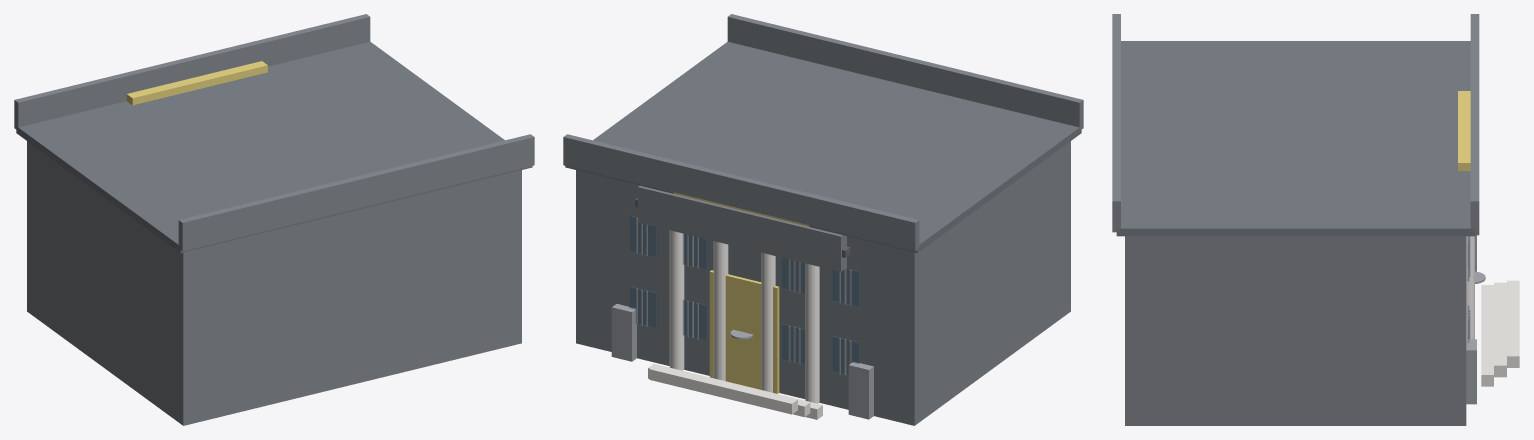
The model's file is bank.fbx.
3 renders of one model, left to right at view 1: azimuth 30°, elevation 25°; view 2: azimuth 150°, elevation 25°; view 3: azimuth 270°, elevation 25°, orthographic. The views are drawn at different scales.
Parts seen in each view (by area): view 1: MainBody, Roof, Parapet_B, Parapet_F, PedimentTop; view 2: MainBody, Roof, Parapet_F, Parapet_B, Pediment, VaultDoor, Step_2, Column_2, Column_-2, Column_0.7, Column_-0.7, ATM_1 (+9 smaller); view 3: Roof, MainBody, Parapet_F, Parapet_B, Step_0, Step_1, Step_2, PedimentTop, Column_2, ATM_1.
Part boxes in pixels (box(x1,y1,x2,y2)): MainBody: box(27, 141, 521, 425); Roof: box(16, 41, 532, 253); Parapet_B: box(178, 134, 534, 251); Parapet_F: box(14, 14, 370, 129); PedimentTop: box(126, 61, 267, 105); MainBody: box(576, 141, 1070, 425); Roof: box(565, 41, 1081, 253); Parapet_F: box(563, 134, 919, 251); Parapet_B: box(727, 14, 1083, 130); Pediment: box(638, 185, 846, 271); VaultDoor: box(709, 270, 779, 393); Step_2: box(649, 365, 797, 414); Column_2: box(669, 230, 684, 370); Column_-2: box(805, 263, 819, 403); Column_0.7: box(713, 241, 728, 380); Column_-0.7: box(761, 252, 775, 392); ATM_1: box(611, 304, 636, 361); Roof: box(1116, 41, 1474, 236); MainBody: box(1125, 236, 1466, 425); Parapet_F: box(1470, 14, 1479, 232); Parapet_B: box(1112, 14, 1120, 232); Step_0: box(1481, 285, 1493, 386); Step_1: box(1494, 282, 1506, 377); Step_2: box(1507, 280, 1519, 367); PedimentTop: box(1458, 91, 1470, 170); Column_2: box(1466, 236, 1474, 339); ATM_1: box(1466, 339, 1476, 404).
Size of the model in its own units: 10.4 by 6.05 by 9.55.
